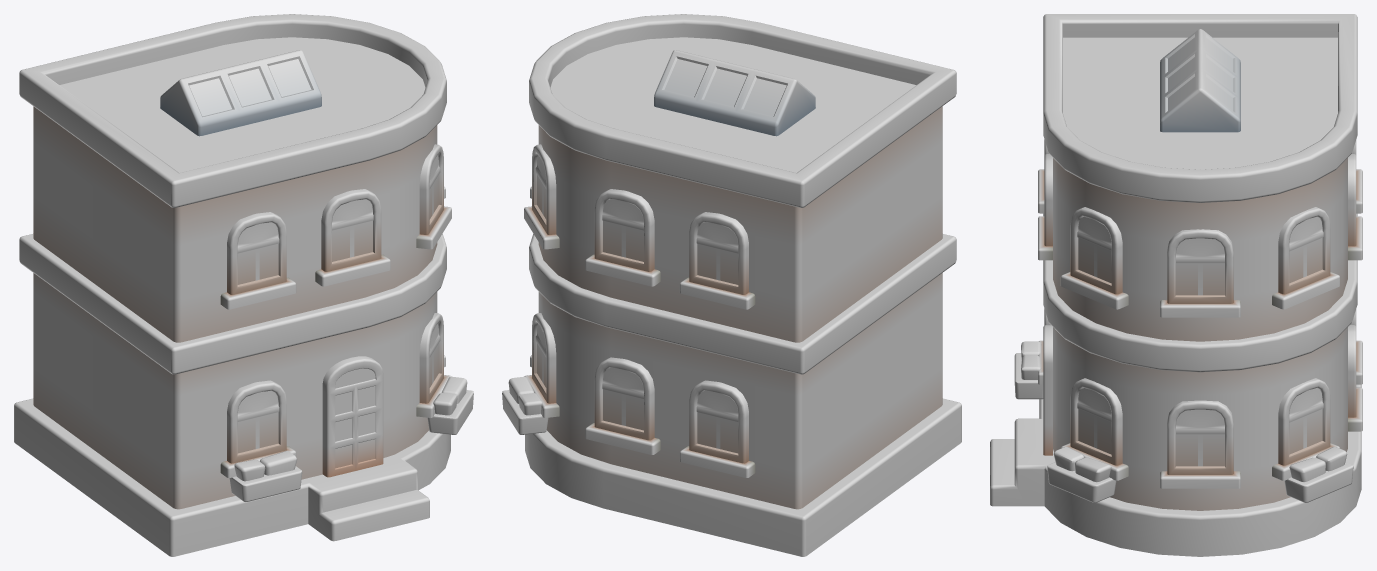
The model's file is NF_Bld_House 03.fbx.
3 renders of one model, left to right at view 1: azimuth 30°, elevation 25°; view 2: azimuth 150°, elevation 25°; view 3: azimuth 270°, elevation 25°, orthographic.
Parts seen in each view (by area): view 1: House_03; view 2: House_03; view 3: House_03.
Boxes of the visible parts, x1=… form: House_03: x1=14, y1=14, x2=473, y2=556; House_03: x1=502, y1=14, x2=961, y2=556; House_03: x1=990, y1=14, x2=1362, y2=556.
Bounding box in the file's own units: 8.06 × 9.09 × 7.59.
